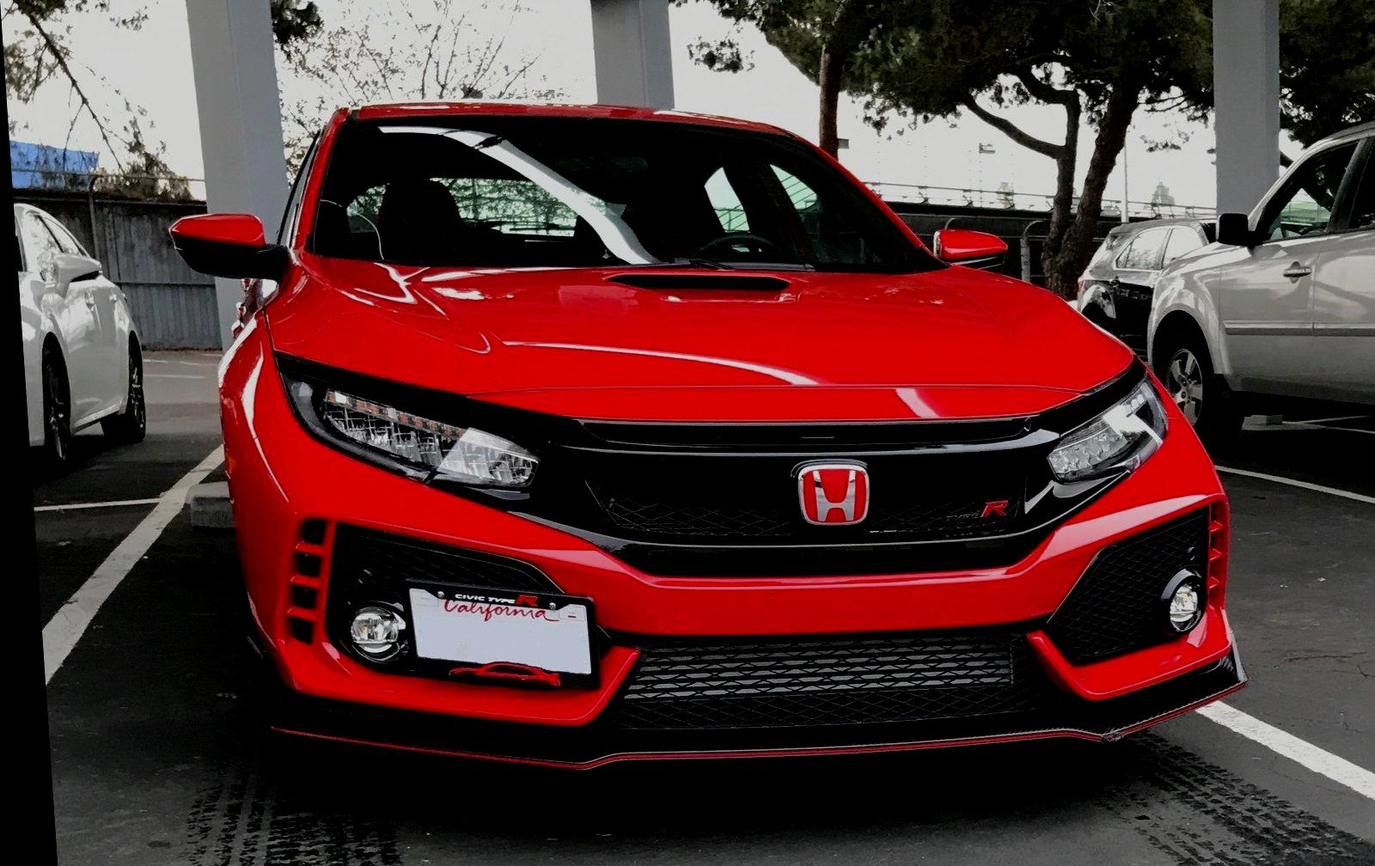License_Plate: (392, 568, 621, 708)
